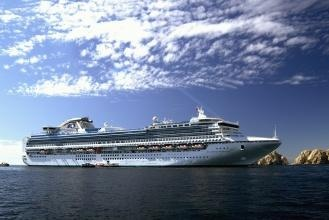youlun: (17, 102, 281, 167)
